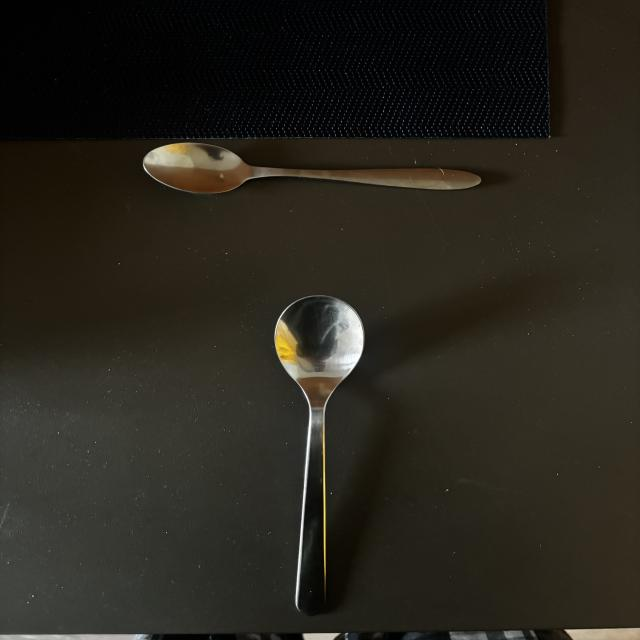spoon: (273, 297, 364, 612), (144, 144, 484, 196)
